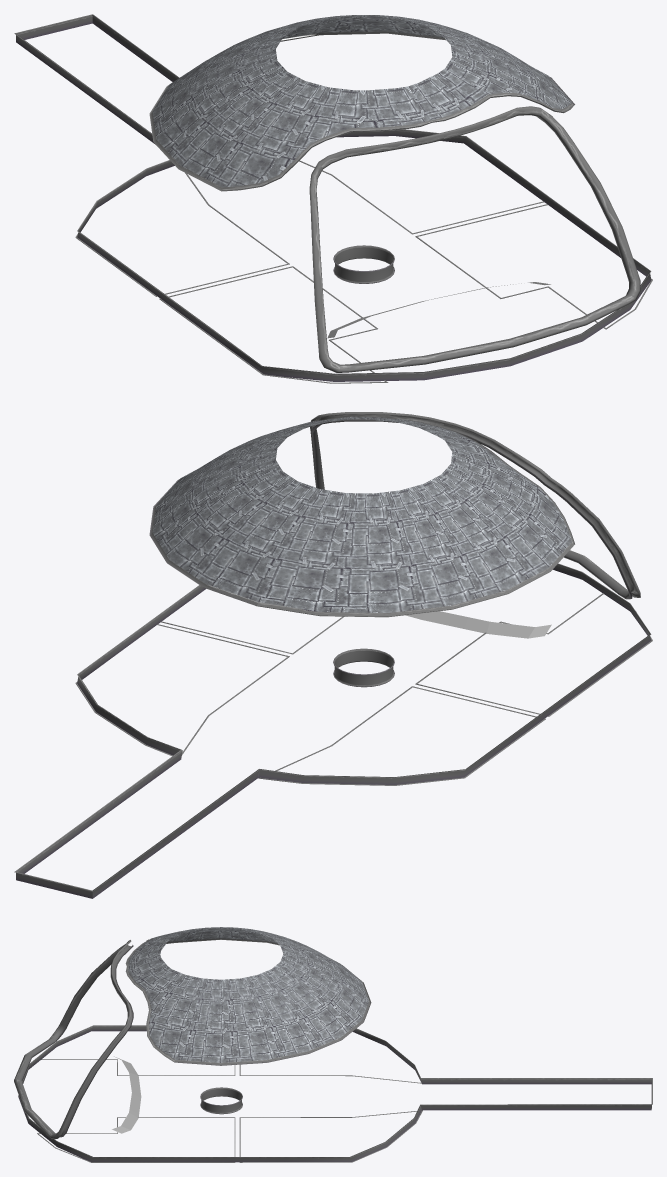
Rendered from Trim.fbx.
3 views of the same model, one above another, from view 1: azimuth 30°, elevation 25°; view 2: azimuth 150°, elevation 25°; view 3: azimuth 270°, elevation 25° (orthographic). The views are drawn at different scales.
Parts seen in each view (by area): view 1: Trimmings; view 2: Trimmings, StairRamp; view 3: Trimmings, StairRamp.
Part boxes in pixels (x1,y1,x2,y2): Trimmings: (14, 14, 652, 383); Trimmings: (14, 412, 652, 898); StairRamp: (406, 611, 551, 638); Trimmings: (14, 927, 652, 1162); StairRamp: (112, 1056, 141, 1133).
Size of the model in its own units: 13.71 by 7.33 by 28.01.
3 materials, 2 textured.
